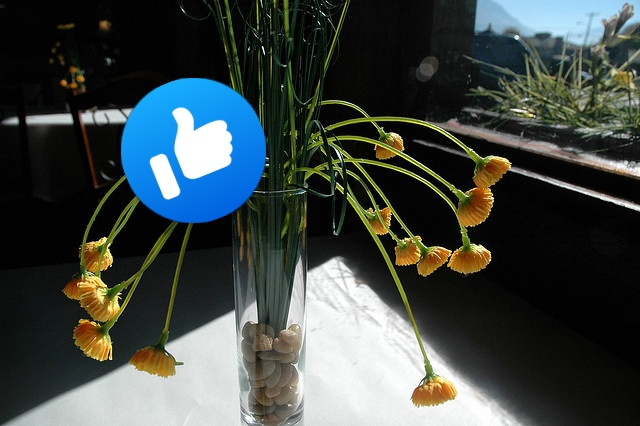like: (121, 78, 266, 223)
